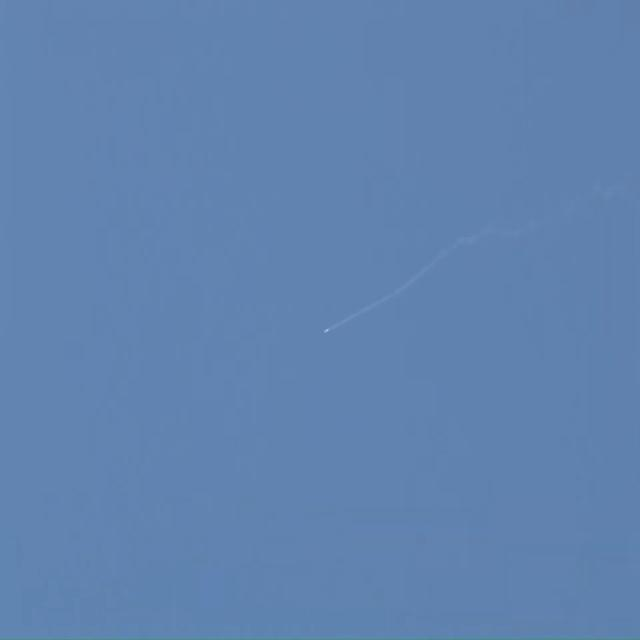Rocket: (323, 328, 329, 334)
